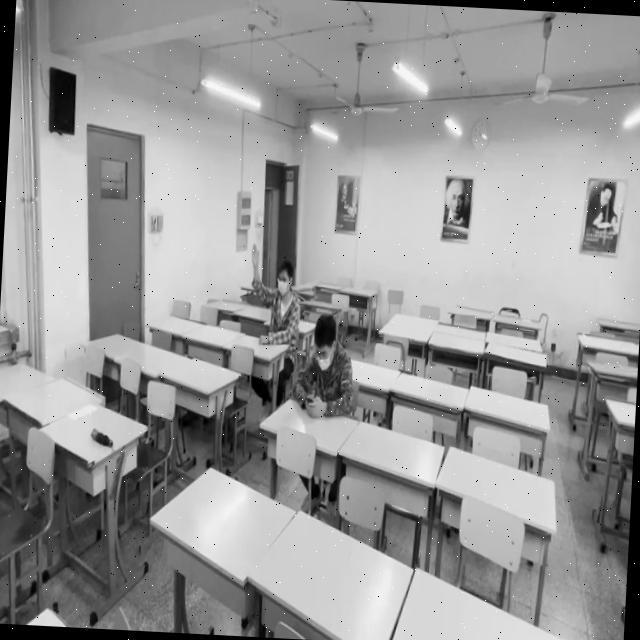phone: (296, 307, 357, 416)
study: (244, 243, 305, 346)
